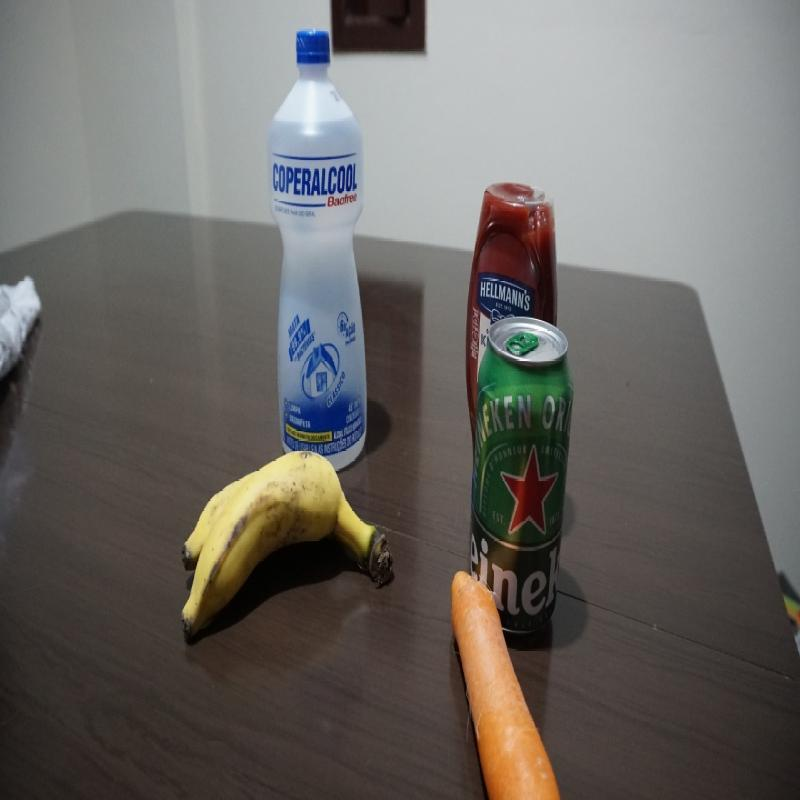Alcohol Bottle: (266, 28, 368, 447)
Banana: (178, 451, 390, 668)
Beer can: (475, 318, 572, 567)
Carrot: (447, 562, 559, 797)
Ketchup: (464, 162, 560, 308)
